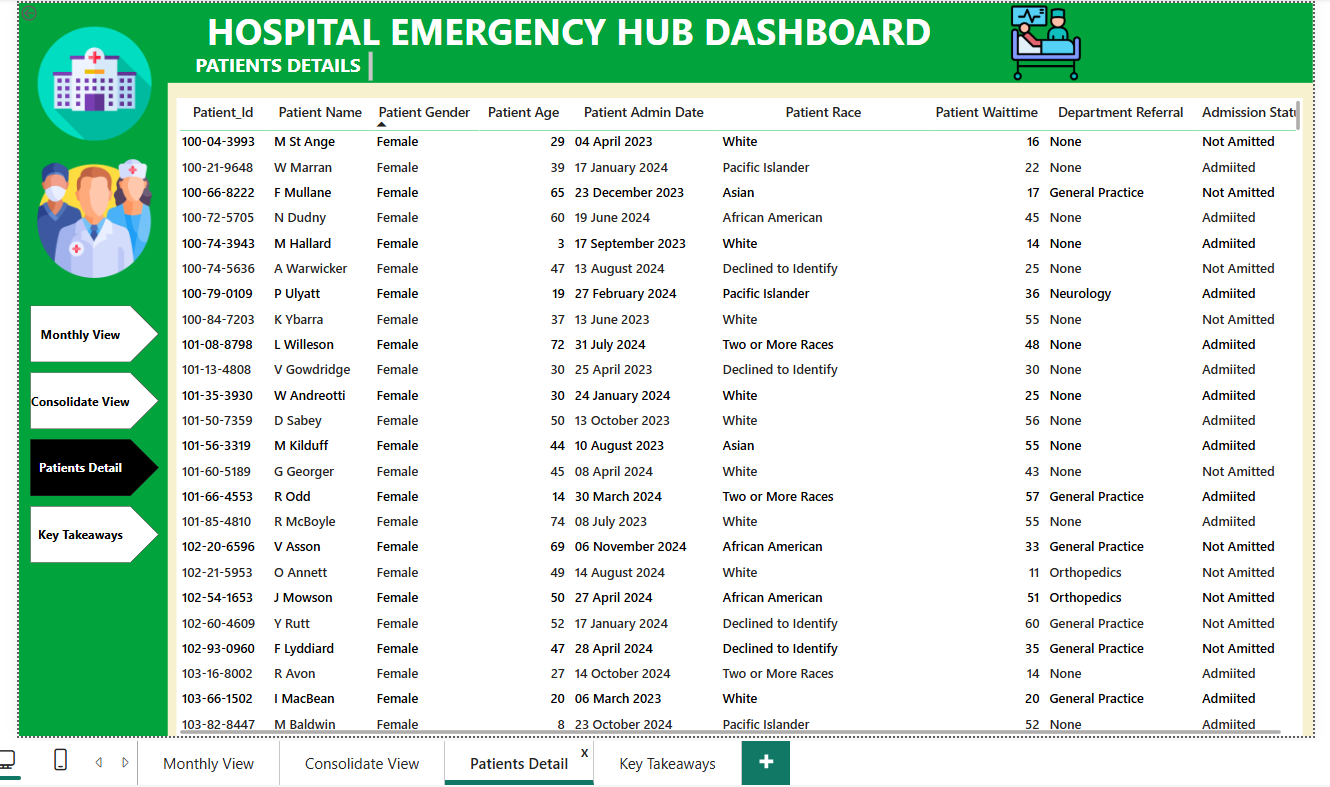

Layout of this report page (visuals, bound fields, positions):
{"tool":"powerbi","page":{"name":"Patients Detail","canvas":[2555,1448],"ordinal":2},"visuals":[{"type":"shape","box":[0,0,293.6,1448.5],"z":0},{"type":"shape","box":[0,0,2554,157.9],"z":1000},{"type":"textbox","box":[310.9,0,1549.7,118.4],"z":2000},{"type":"textbox","box":[310.9,96.2,387.4,61.7],"z":3000},{"type":"actionButton","box":[0,0,100,40],"z":4000},{"type":"image","box":[0,41.9,298.6,234.4],"z":5000},{"type":"tableEx","fields":{"Values":["Hospitals Data.Patient_Id","Hospitals Data.Patient_Full_Name","Hospitals Data.Patient_Gender","Sum(Hospitals Data.Patient_Age)","Hospitals Data.Patient_Admin_Date","Hospitals Data.Patient_Race","Sum(Hospitals Data.Patient_Waittime)","Hospitals Data.Department_Referral","Hospitals Data.Admission_Status"]},"box":[310.9,187.5,2223.3,1261],"z":6000},{"type":"pageNavigator","box":[22.2,597.2,254.2,510.8],"z":7000},{"type":"image","box":[1887.7,0,278.8,157.9],"z":8000},{"type":"image","box":[2.5,303.5,293.6,244.3],"z":9000}]}

Visuals, with their boxes on the page's 2555x1448 design canvas (x1, y1, x2, y2). These are canvas units, not pixel positions in the 1330x787 screenshot, which may show the page scaled, cropped or inside an application window:
shape: [0, 0, 294, 1448]
shape: [0, 0, 2554, 158]
textbox: [311, 0, 1861, 118]
textbox: [311, 96, 698, 158]
actionButton: [0, 0, 100, 40]
image: [0, 42, 299, 276]
tableEx - Hospitals Data.Patient_Id x Hospitals Data.Patient_Full_Name: [311, 188, 2534, 1448]
pageNavigator: [22, 597, 276, 1108]
image: [1888, 0, 2166, 158]
image: [2, 304, 296, 548]
